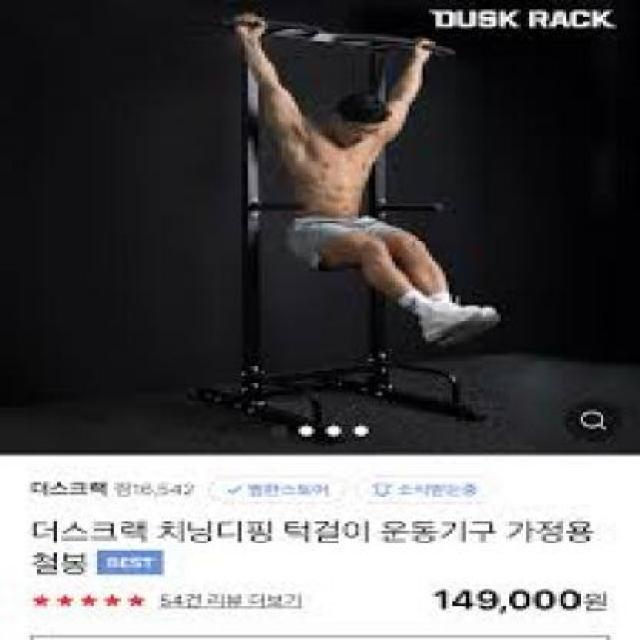chinning dipping: (212, 13, 489, 447)
